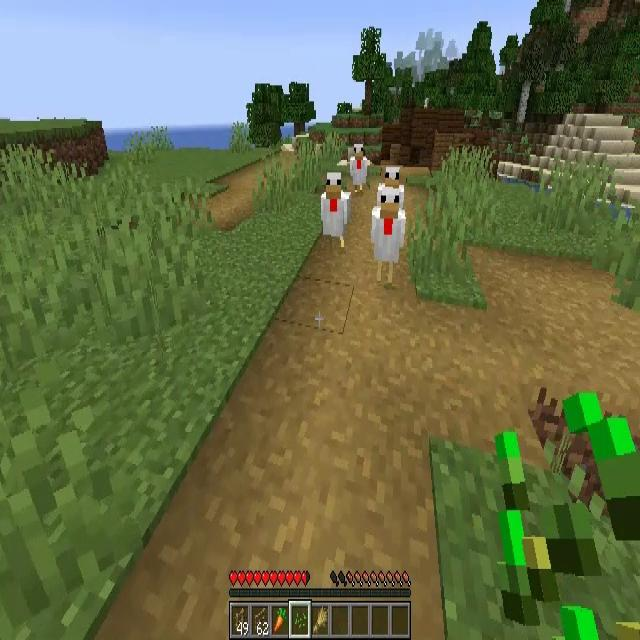duck: (372, 188, 406, 284), (321, 174, 352, 248), (347, 144, 370, 190), (380, 168, 403, 205)
